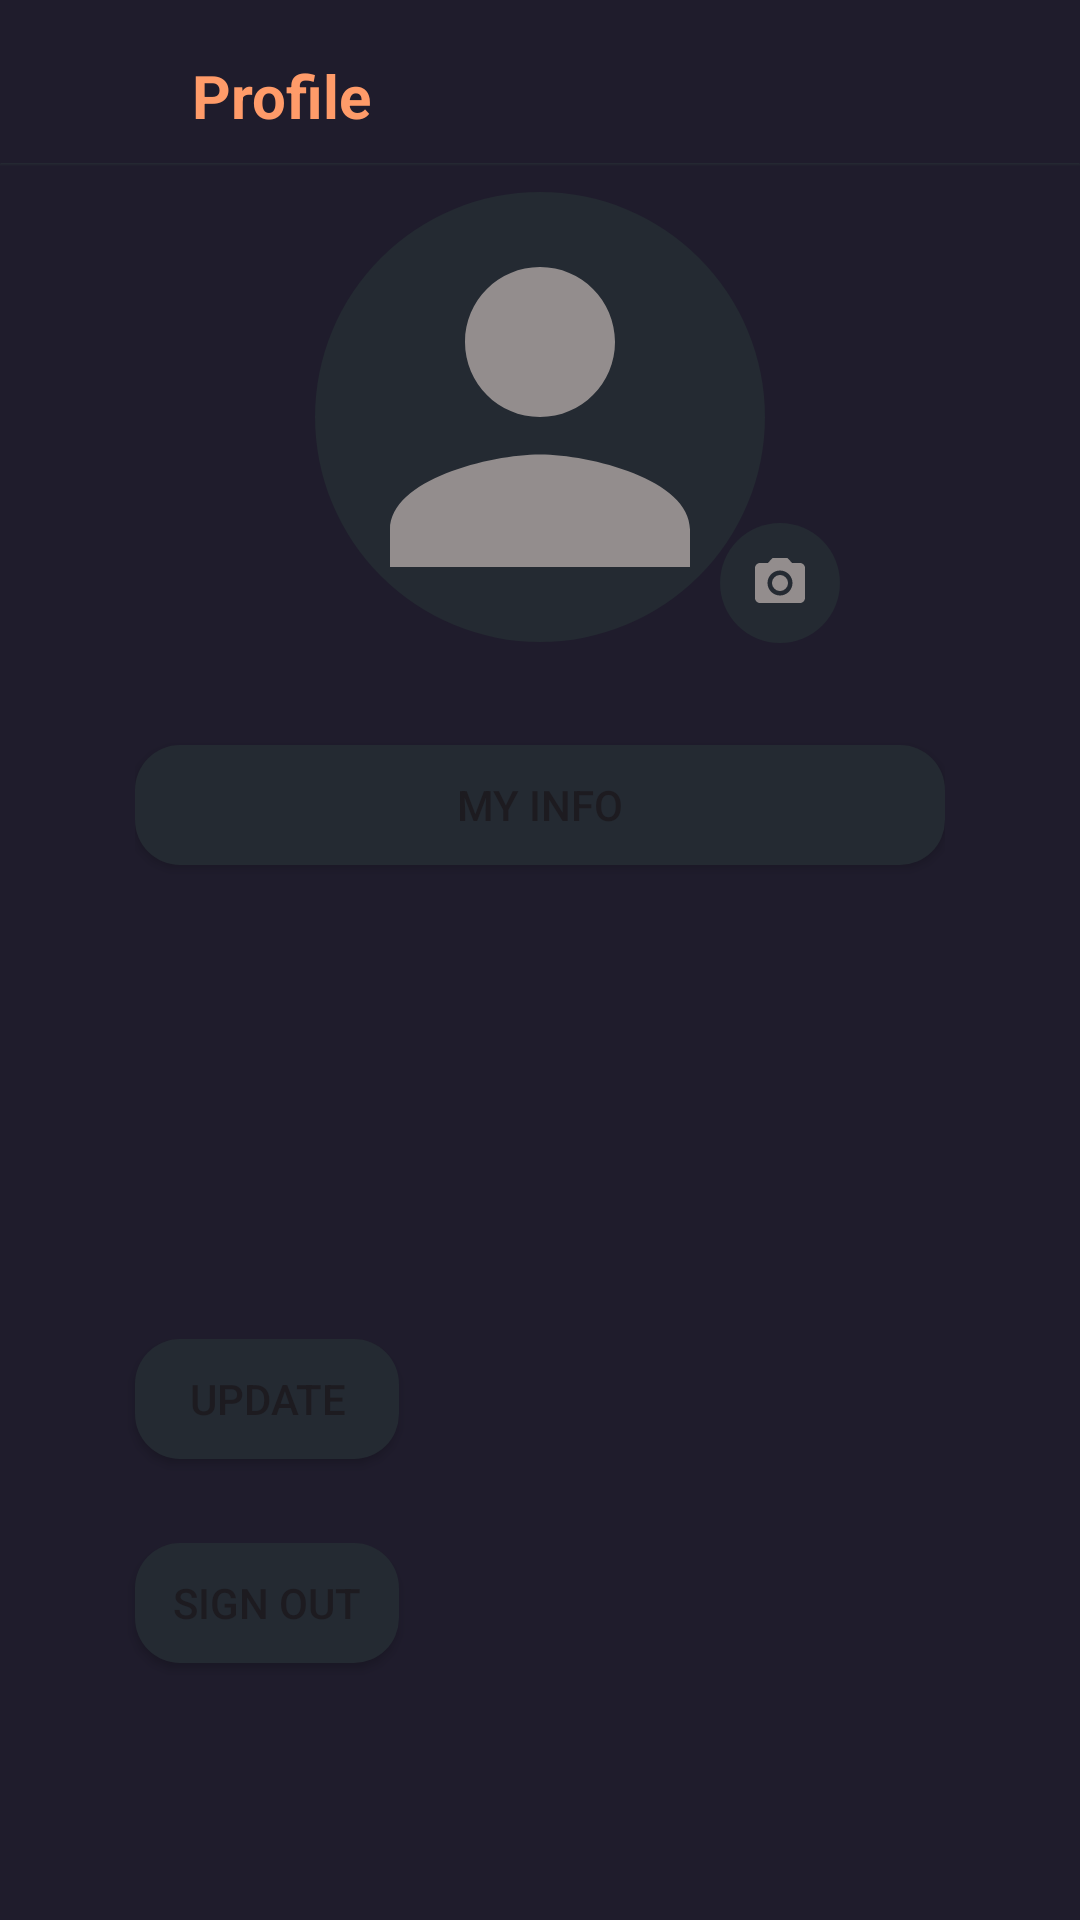

Named icons in this screenshot (1080 × 1920) and their bounding boxes, [x1,y1,x2,y2]:
camera: [755,558,805,603]
